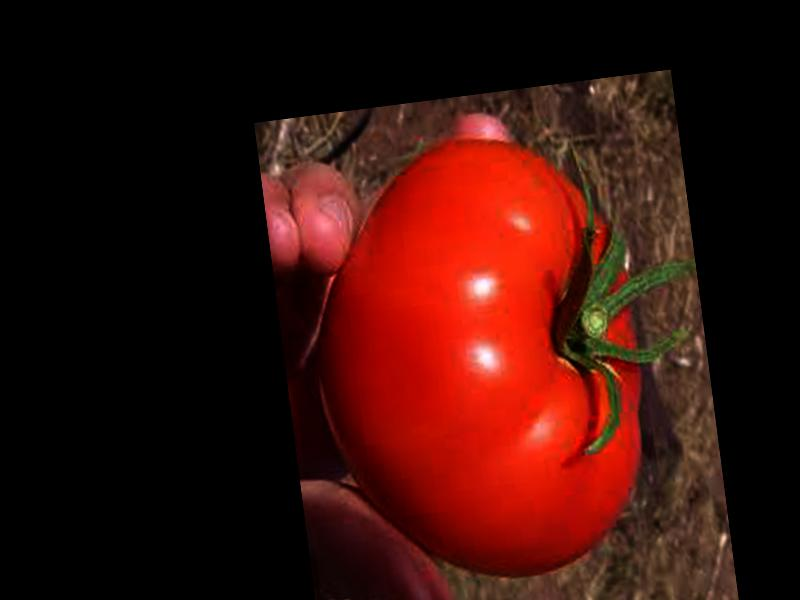Tomato: (294, 122, 664, 598)
